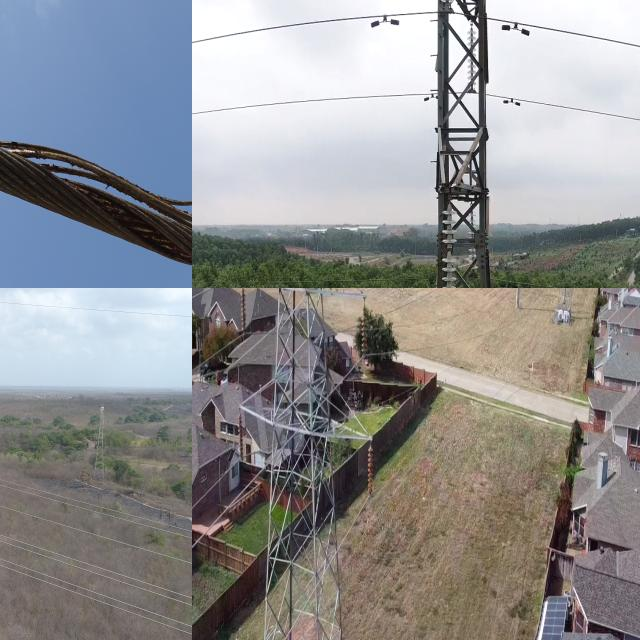杆塔: (219, 288, 363, 640), (413, 0, 512, 288), (85, 398, 116, 507)
正常电缆: (0, 562, 192, 637), (0, 556, 192, 628), (0, 538, 192, 608), (0, 531, 192, 600), (0, 503, 192, 566), (0, 483, 192, 540), (0, 476, 192, 533), (0, 297, 192, 320)
正常绝缘子: (439, 201, 458, 288), (355, 295, 372, 374), (363, 442, 380, 518), (232, 405, 248, 472), (235, 288, 252, 341), (466, 21, 478, 94)
电缆破损: (0, 114, 192, 288)
绝缘子破损: (446, 246, 453, 254)
